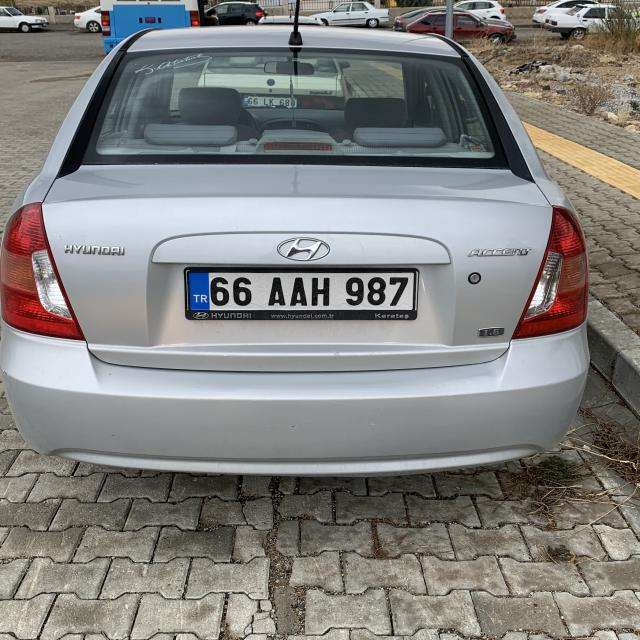license_plate: (186, 268, 417, 312)
